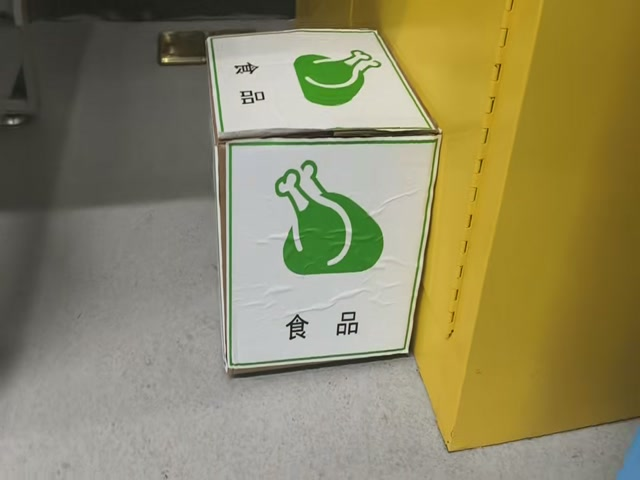Cube_food: (207, 30, 439, 140)
